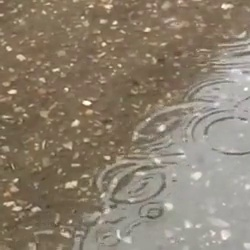drop: (99, 160, 167, 204), (192, 109, 250, 157), (186, 78, 250, 110), (18, 229, 82, 250), (140, 202, 164, 221), (96, 232, 120, 248)
